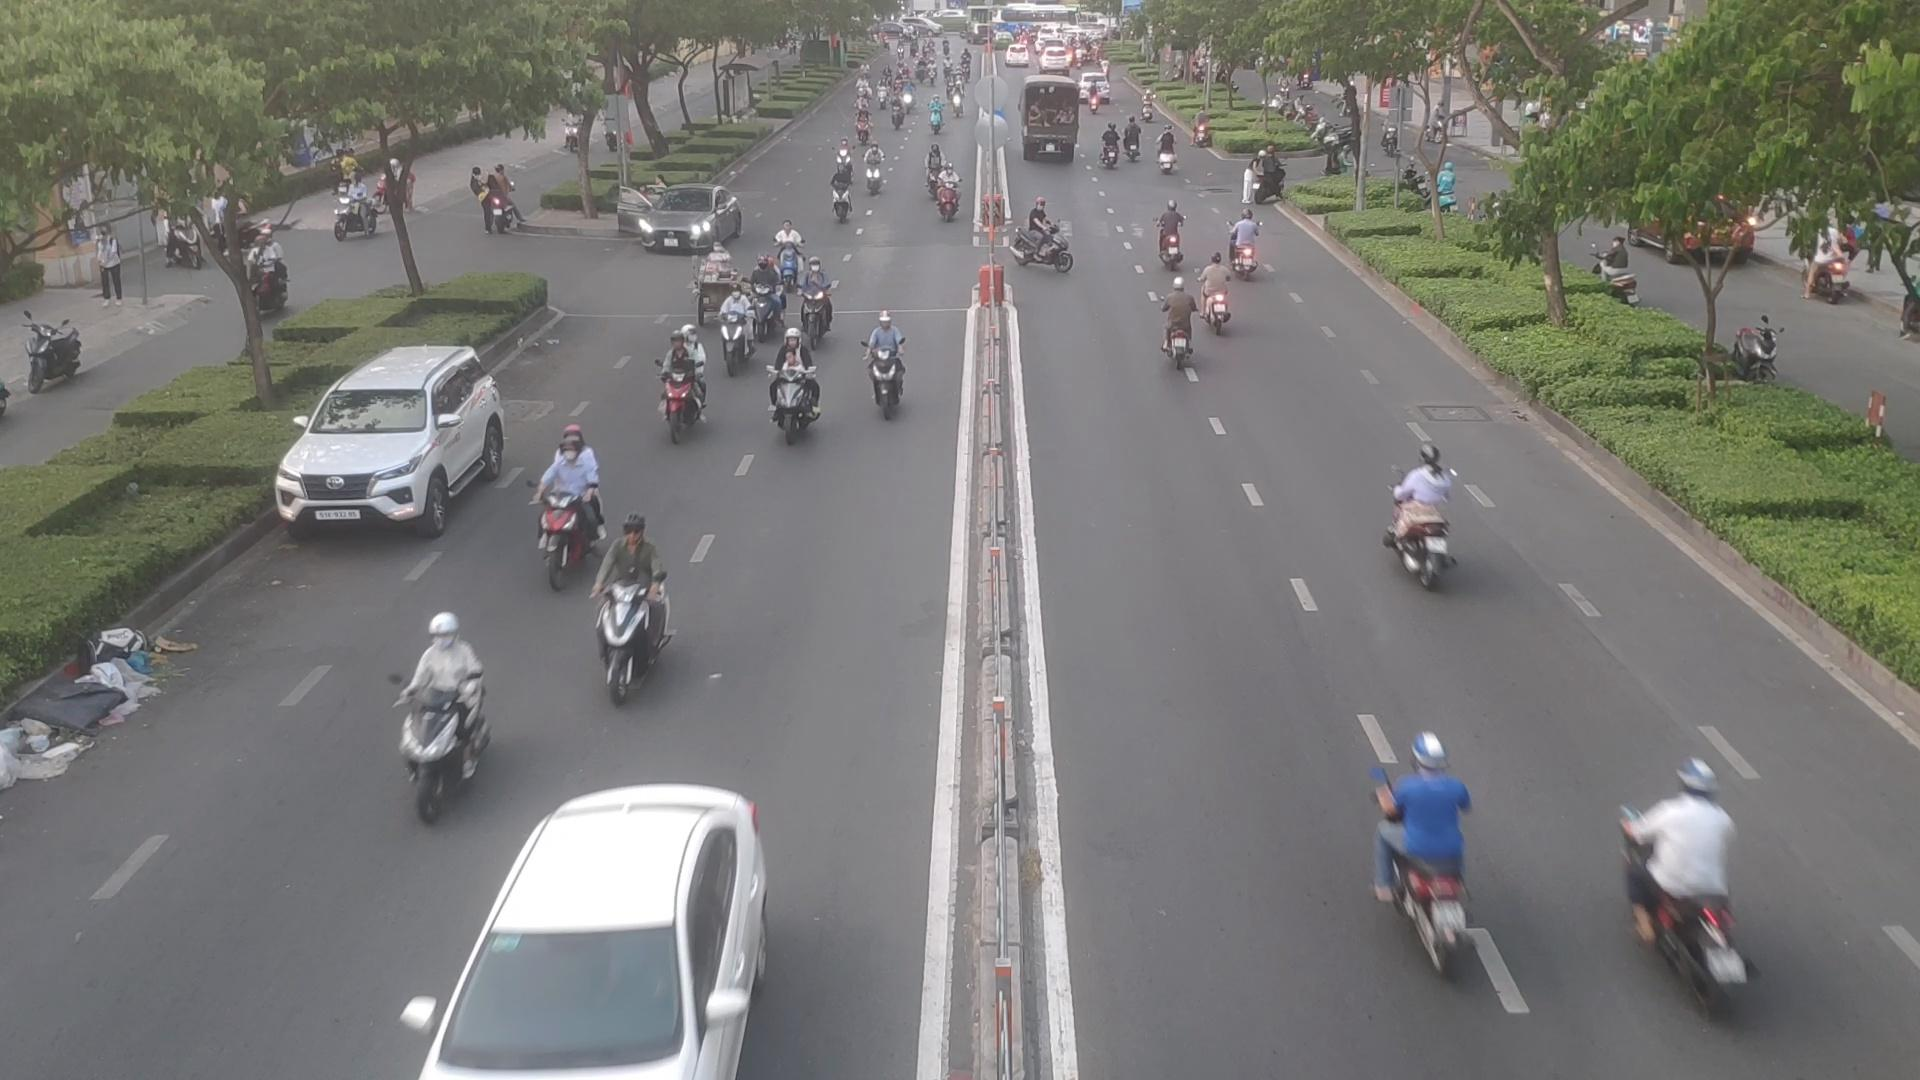car: (417, 779, 757, 1080), (274, 345, 512, 533), (618, 187, 741, 258)
motorbike: (1619, 752, 1766, 1009), (1367, 727, 1477, 961), (589, 510, 683, 680), (401, 609, 483, 796), (1386, 443, 1461, 579), (539, 429, 600, 579), (655, 313, 704, 440), (777, 328, 820, 444), (1010, 207, 1069, 284), (1154, 277, 1200, 375), (791, 253, 840, 340), (870, 309, 906, 419), (1217, 208, 1265, 280), (1193, 257, 1233, 338), (1240, 154, 1296, 206), (719, 284, 750, 371), (938, 160, 969, 229), (1151, 203, 1183, 269), (860, 138, 886, 203), (829, 160, 855, 224), (1151, 131, 1183, 177), (1098, 127, 1124, 169)
